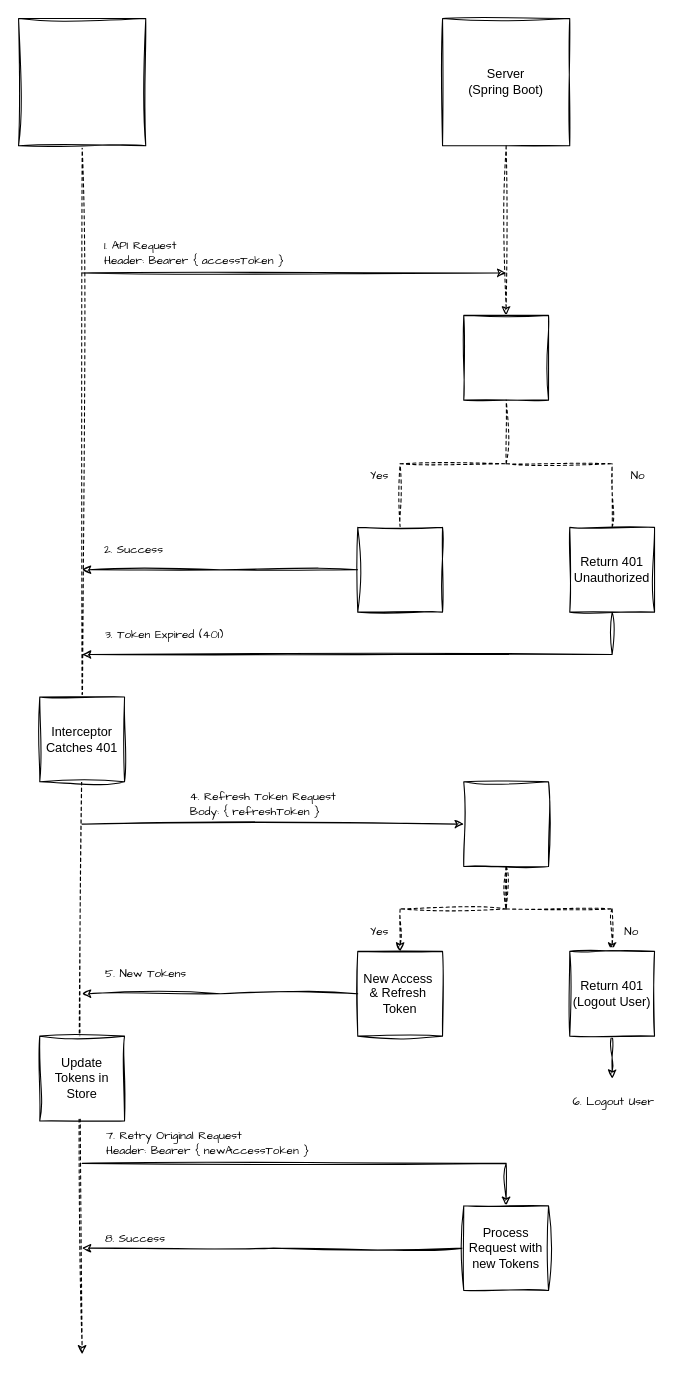
This 673x1381 diagram has some shape labels left out. Each missing label, with the box of its shape:
Is Access Token Valid?: (463, 314, 549, 400)
Is Refresh Token Valid?: (463, 781, 549, 867)
Mobile App (Majestor): (17, 17, 146, 146)
Return Data (200 OK): (357, 526, 443, 612)
